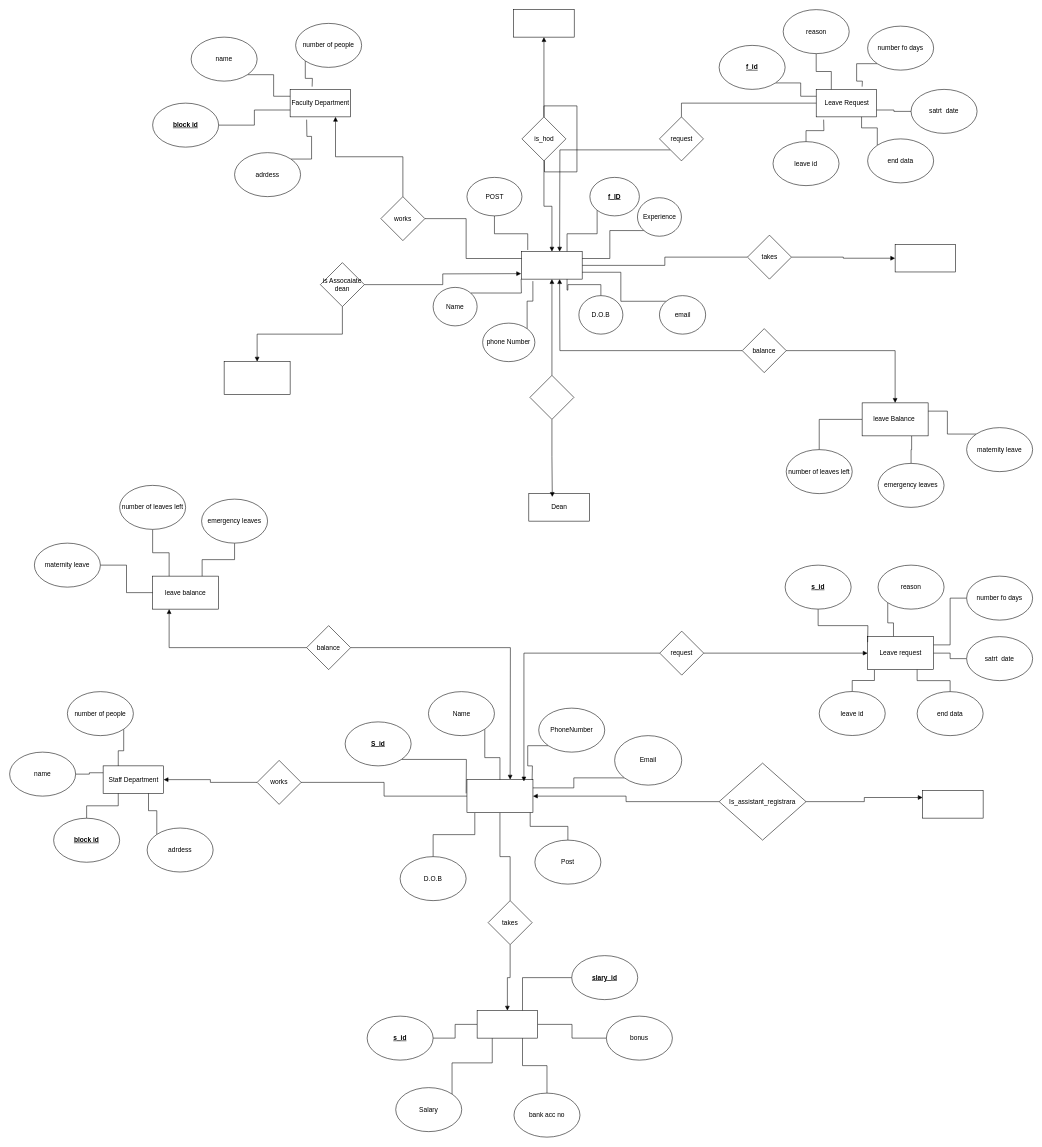
This 1042x1147 diagram has some shape labels left out. The centre of each missing label's shape, as x and y in pixels:
Assistant Registrar: the point at 952,804
Associate Dean: the point at 257,378
Faculty: the point at 551,265
facultySalary: the point at 925,258
HOD: the point at 543,23
Is_dean: the point at 551,397
Staff: the point at 499,796
staff salary: the point at 507,1024
